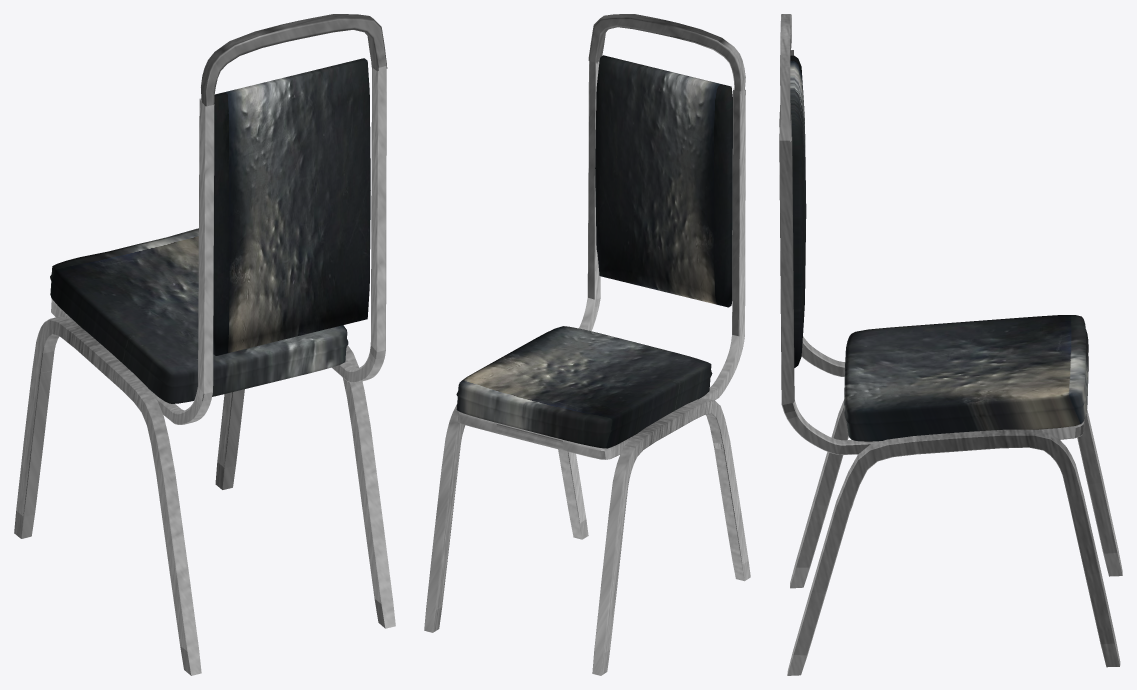
Rendered from silla.obj.
3 renders of one model, left to right at view 1: azimuth 30°, elevation 25°; view 2: azimuth 150°, elevation 25°; view 3: azimuth 270°, elevation 25°, orthographic. The views are drawn at different scales.
Visible parts, largest first — view 1: Box001, Cube001, Cube_001; view 2: Box001, Cube001, Cube_001; view 3: Cube_001, Cube001, Box001.
Boxes of the visible parts, x1,y1,x2,y2 form: Box001: (213, 58, 370, 355); Cube001: (14, 14, 395, 675); Cube_001: (50, 228, 348, 403); Box001: (595, 55, 732, 307); Cube001: (424, 14, 750, 675); Cube_001: (456, 326, 712, 448); Cube_001: (844, 315, 1088, 441); Cube001: (779, 14, 1122, 675); Box001: (790, 55, 806, 367).
Bounding box in the file's own units: 178 × 503 × 265.
Materials: 2 (2 with a texture image).
